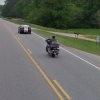Motorcycle: (41, 32, 61, 58)
